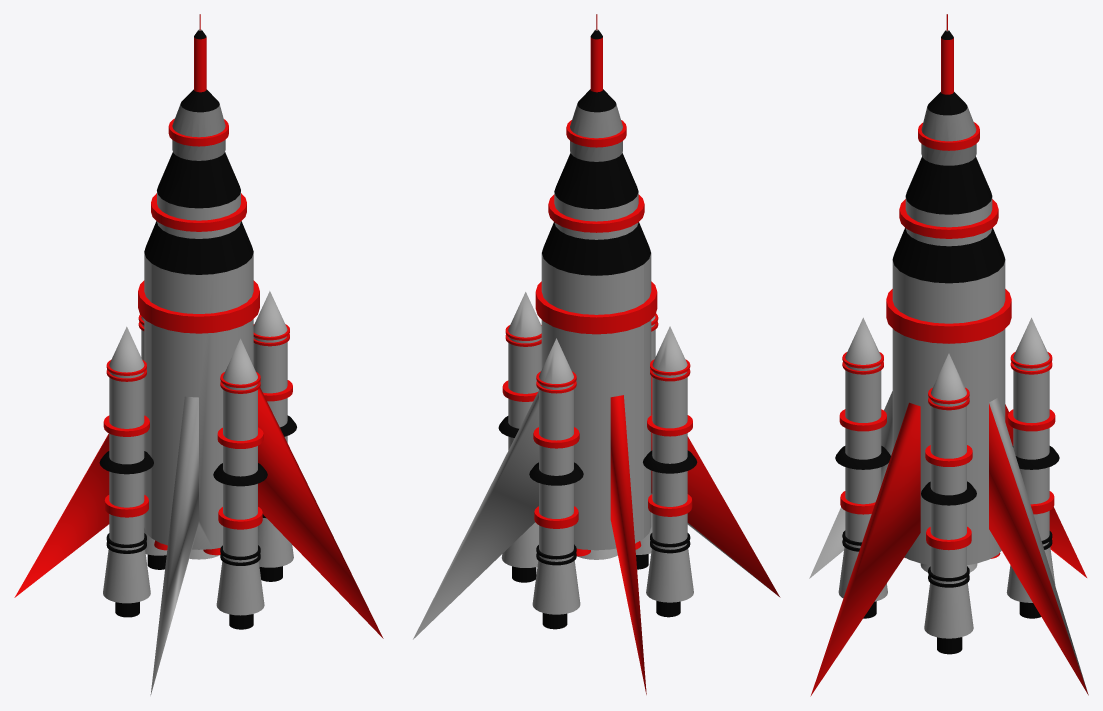
The model's file is Rocket.fbx.
3 views of the same model, side by side, from view 1: azimuth 30°, elevation 25°; view 2: azimuth 150°, elevation 25°; view 3: azimuth 270°, elevation 25° (orthographic). The views are drawn at different scales.
Visible parts, largest first — view 1: rocket; view 2: rocket; view 3: rocket.
Boxes of the visible parts, box(x1,y1,x2,y2) form: rocket: box(14, 14, 383, 695); rocket: box(413, 14, 780, 694); rocket: box(809, 14, 1088, 696).
Size of the model in its own units: 48.56 by 119 by 48.56.
